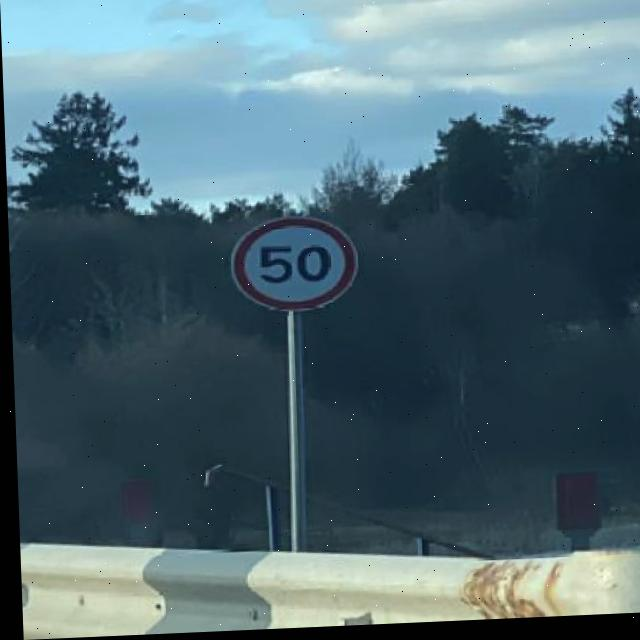Speed limit 50: (223, 213, 361, 321)
